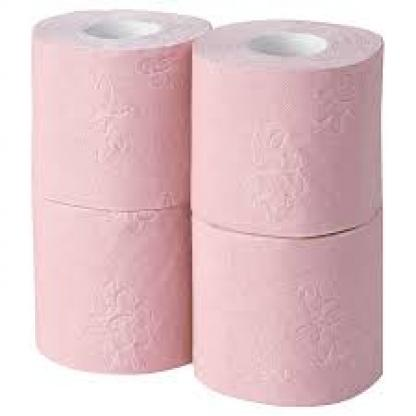tissue: (199, 17, 383, 243), (29, 0, 190, 211)
